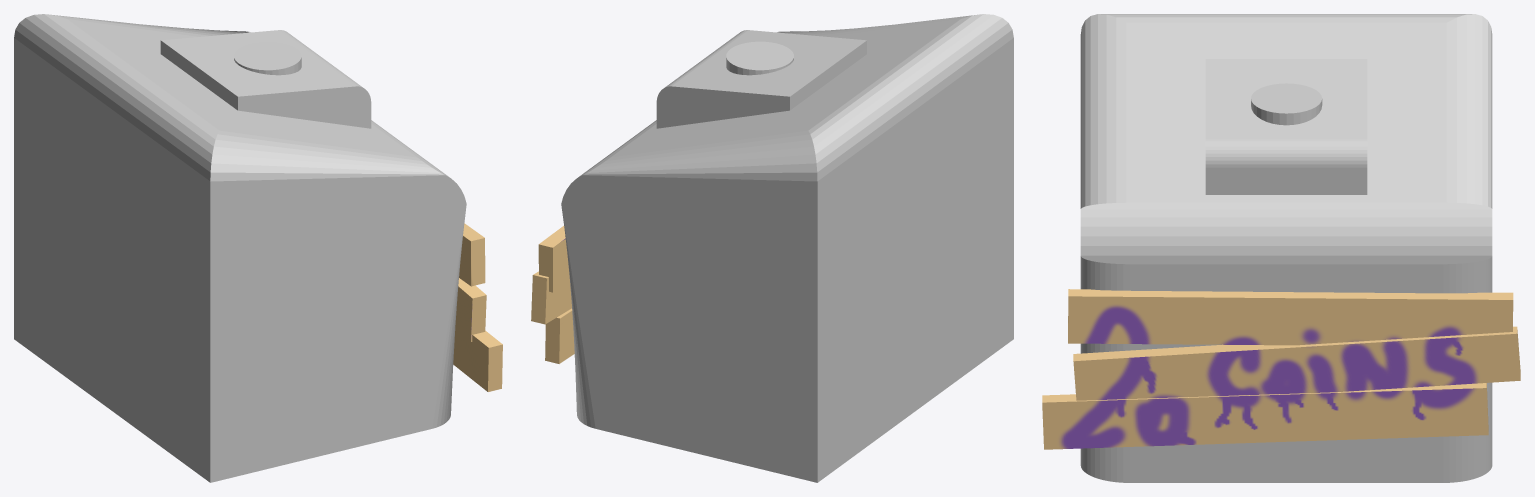
Rendered from button.fbx.
3 renders of one model, left to right at view 1: azimuth 30°, elevation 25°; view 2: azimuth 150°, elevation 25°; view 3: azimuth 270°, elevation 25°, orthographic. The views are drawn at different scales.
Parts seen in each view (by area): view 1: Cube, Cube.001, Cube.003, Cylinder; view 2: Cube, Cube.001, Cube.003, Cylinder; view 3: Cube, Cube.003, Cube.001, Cylinder.
Part boxes in pixels (<box>): Cube: <box>14,14,466,482</box>; Cube.001: <box>160,30,371,128</box>; Cube.003: <box>453,223,502,391</box>; Cylinder: <box>234,41,301,75</box>; Cube: <box>561,14,1013,482</box>; Cube.001: <box>656,30,866,128</box>; Cube.003: <box>531,226,574,363</box>; Cylinder: <box>726,41,793,75</box>; Cube: <box>1080,14,1492,482</box>; Cube.003: <box>1042,289,1520,449</box>; Cube.001: <box>1205,59,1367,194</box>; Cylinder: <box>1251,83,1322,125</box>.
Size of the model in its own units: 186 by 214 by 268.
